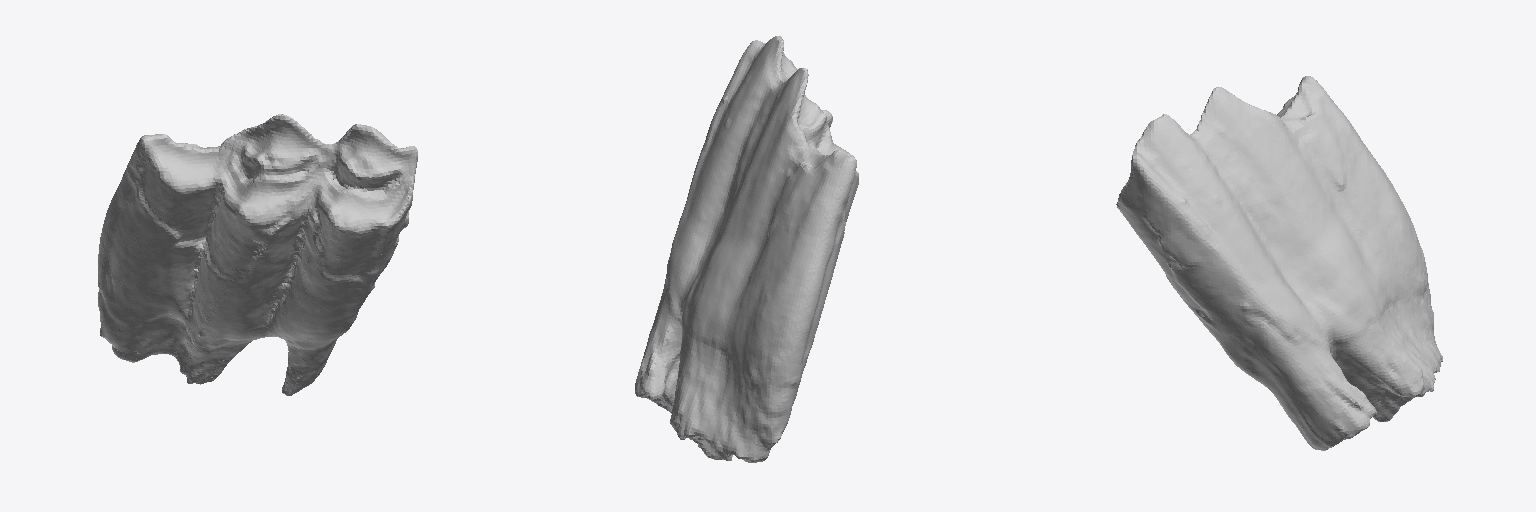
The model's file is MB Ovis 24 M3.obj.
3 views of the same model, side by side, from view 1: azimuth 30°, elevation 25°; view 2: azimuth 150°, elevation 25°; view 3: azimuth 270°, elevation 25° (orthographic).
Size of the model in its own units: 20.57 by 31.98 by 28.52.